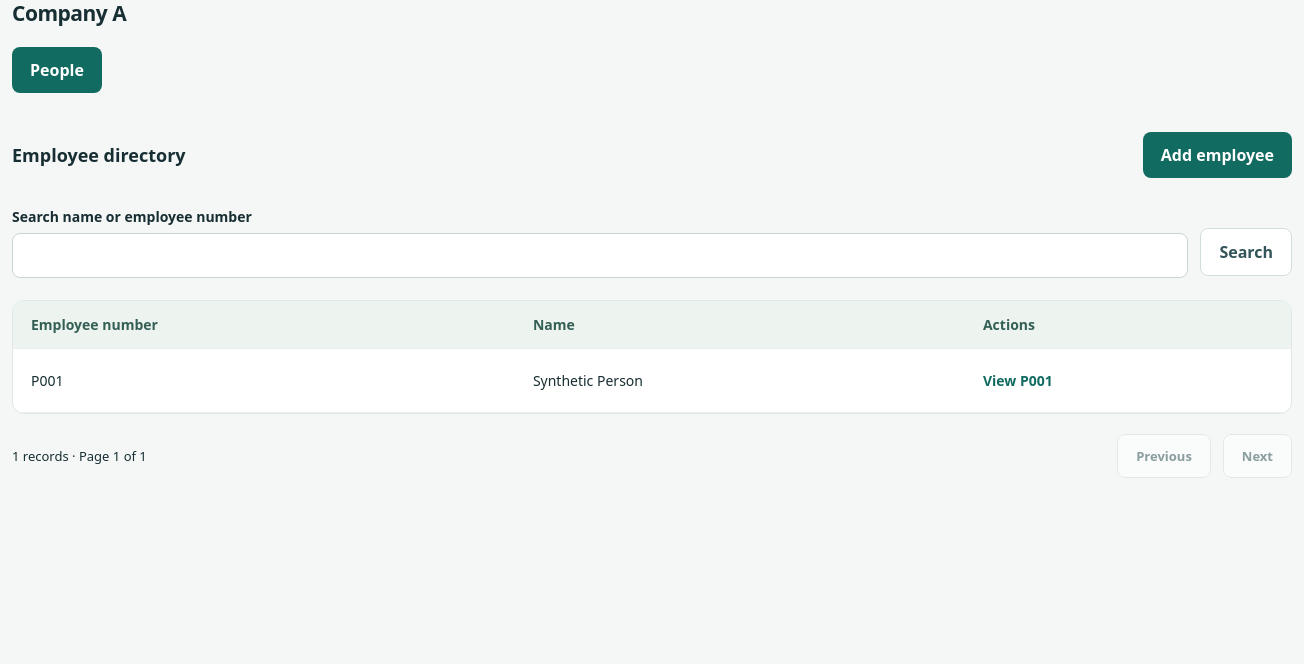
Test case: captures employment confirmation before asynchronous CSRF refresh
Click the button "View P001".
click(1018, 381)  # box [983,363,1053,398]
(page scrolled)
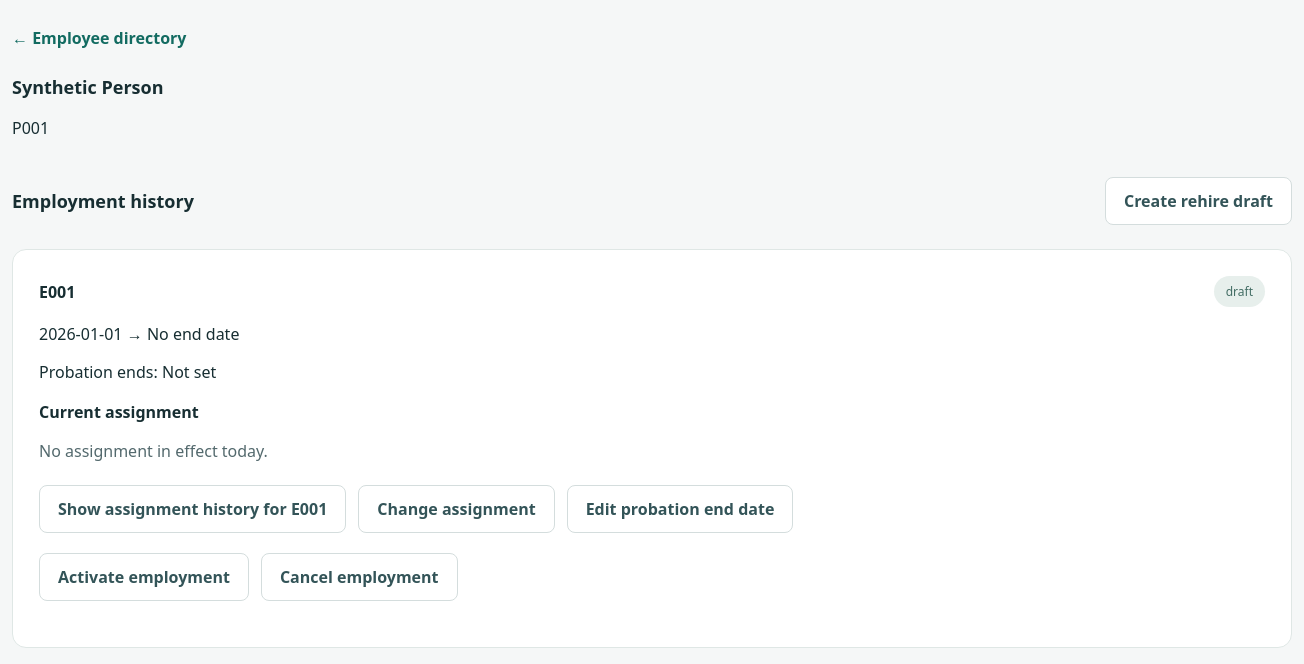
Click the button "Activate employment".
click(144, 577)  # box [39,553,249,601]
(page scrolled)
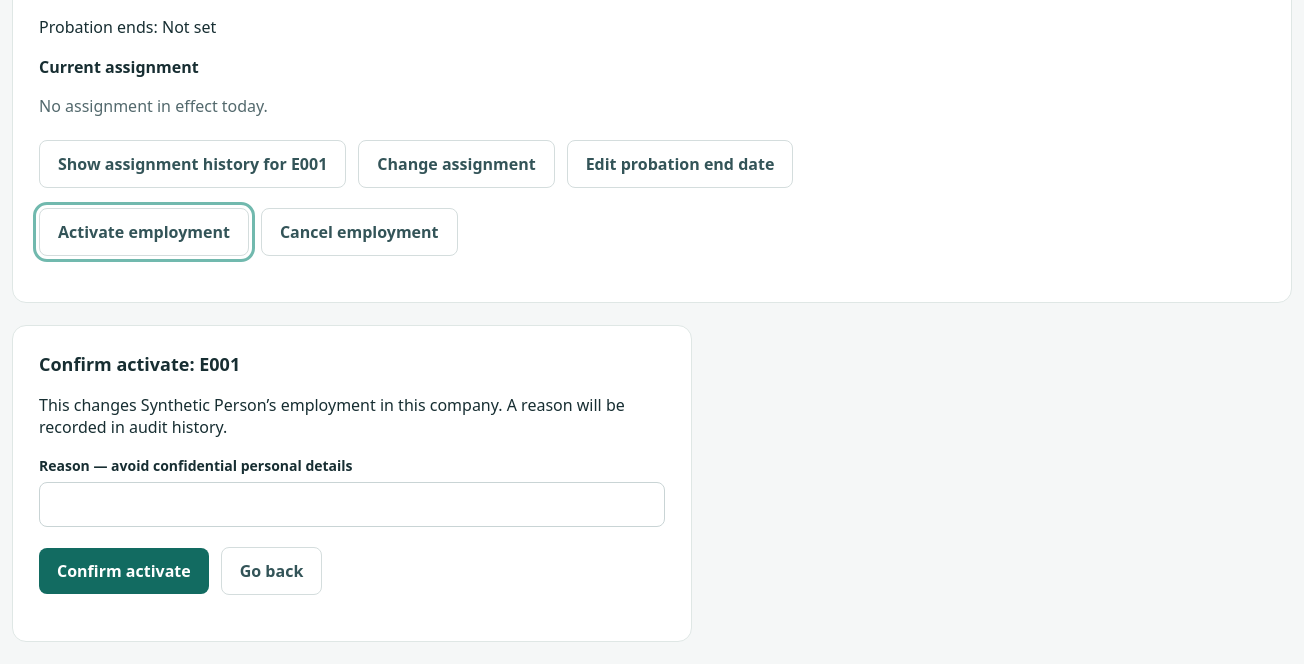
Type "Approved start" into the field labelled "Reason — avoid confidential personal details".
click(352, 504); type("Approved start")  # box [39,482,665,527]
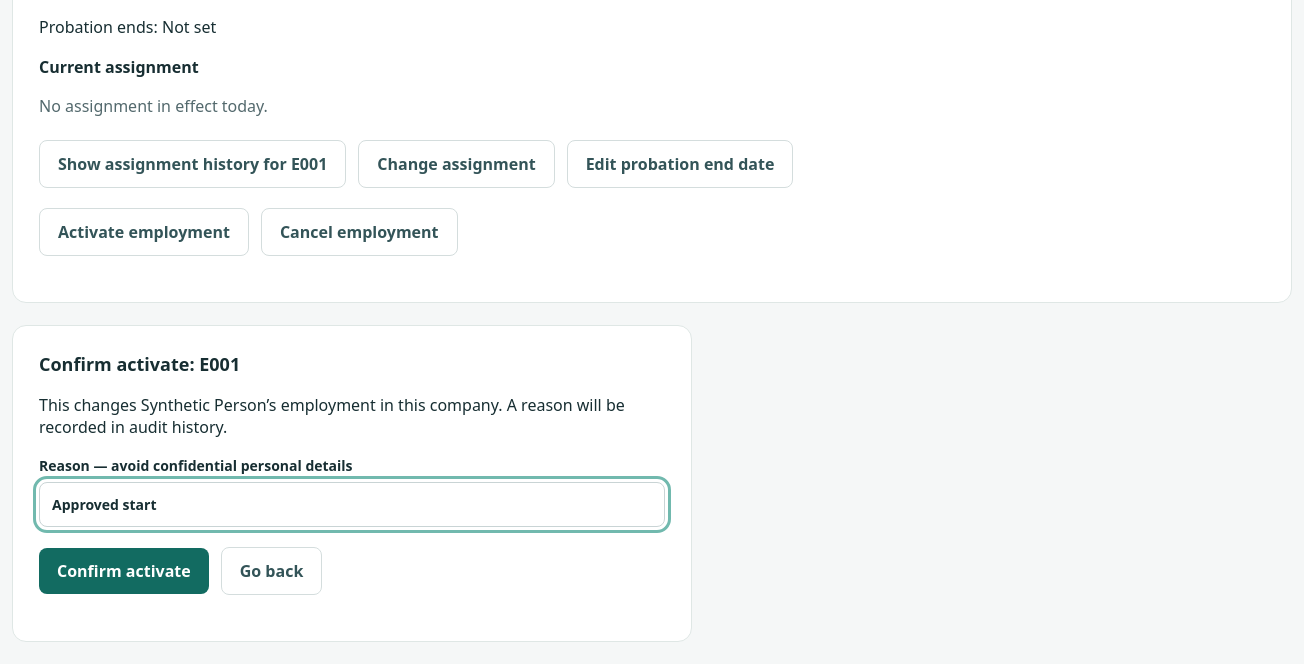
Click the button "Confirm activate".
click(124, 571)  # box [39,548,209,594]
(page scrolled)
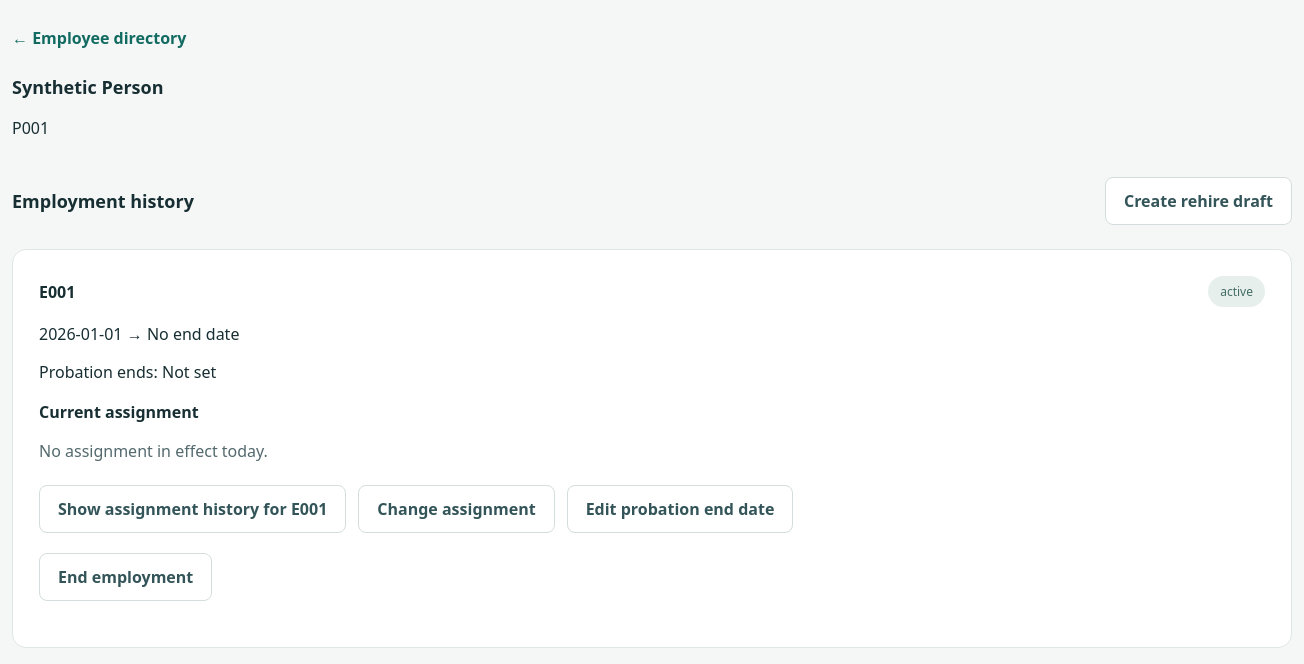
expect the text "active" is shown: met, box [1208,276,1265,307]
